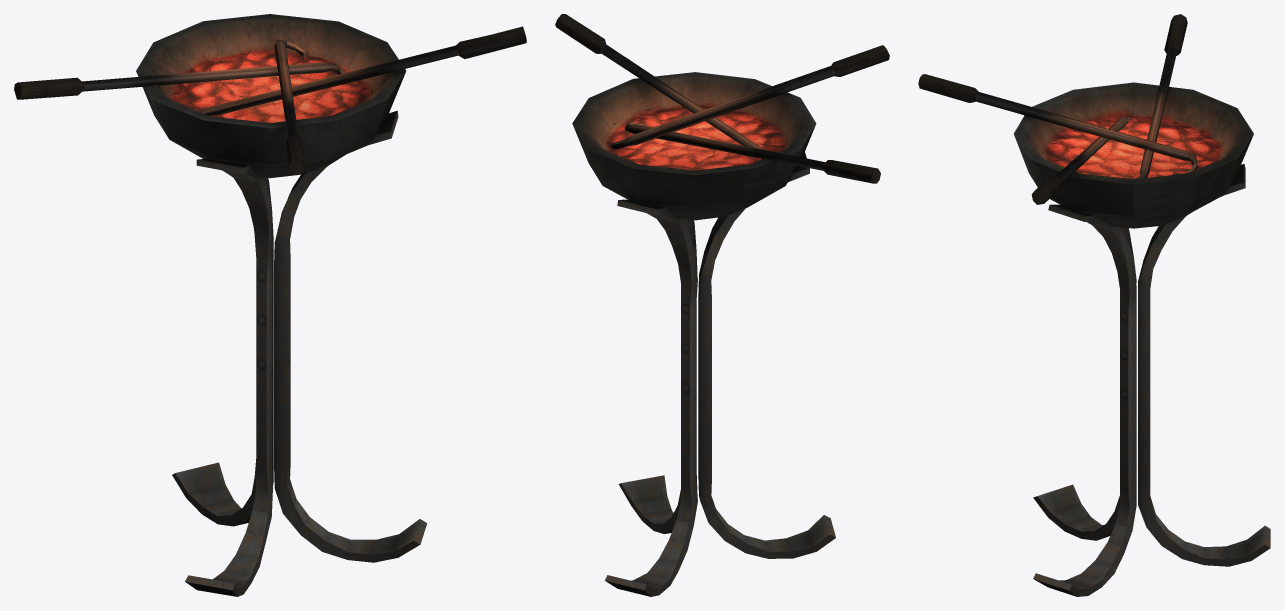
Rendered from BRAND.obj.
3 views of the same model, side by side, from view 1: azimuth 30°, elevation 25°; view 2: azimuth 150°, elevation 25°; view 3: azimuth 270°, elevation 25° (orthographic). The views are drawn at different scales.
Visible parts, largest first — view 1: Group; view 2: Group; view 3: Group.
Part boxes in pixels (x1,y1,x2,y2): Group: [14, 14, 526, 596]; Group: [555, 14, 889, 596]; Group: [918, 14, 1270, 596].
Bounding box in the file's own units: 93.01 × 106 × 74.04.
1 material, 1 textured.
